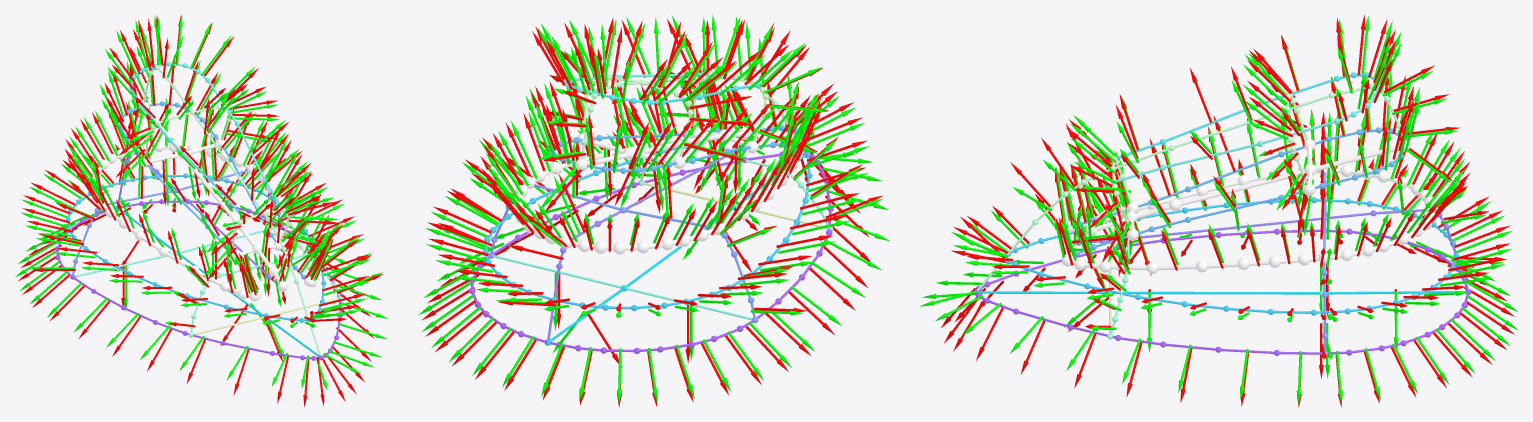
Rendered from t2f_iron.gltf.
3 views of the same model, side by side, from view 1: azimuth 30°, elevation 25°; view 2: azimuth 150°, elevation 25°; view 3: azimuth 270°, elevation 25° (orthographic). The views are drawn at different scales.
Bounding box in the file's own units: 0.6621 × 0.5647 × 0.9741.
